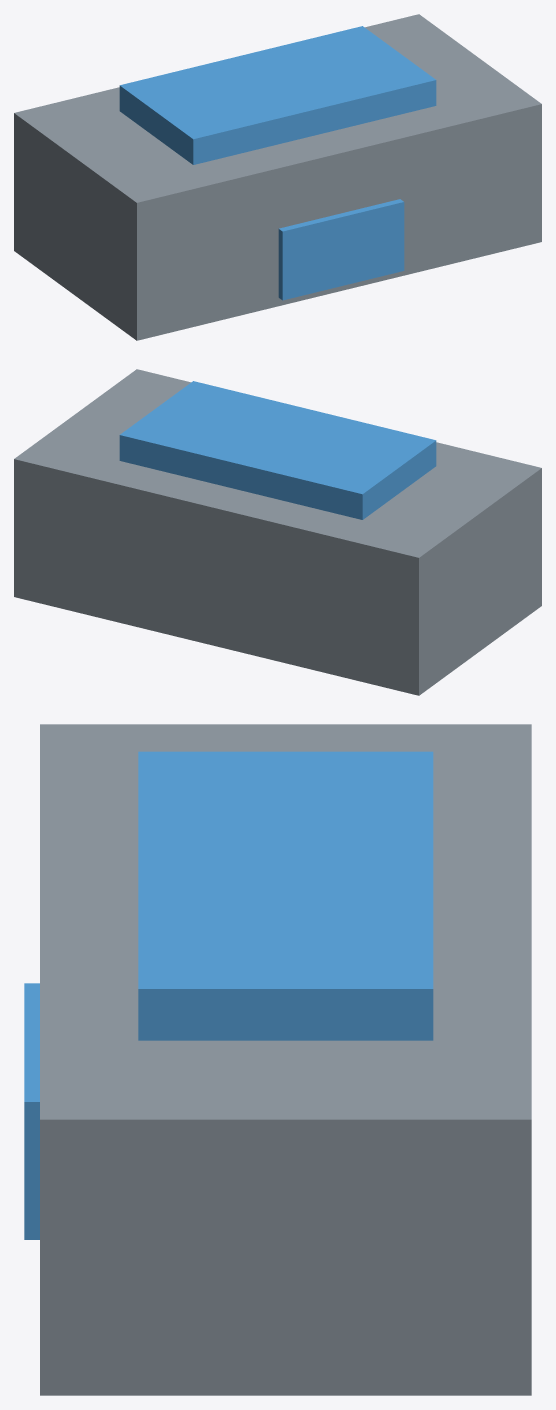
Rendered from SM_Alliance_AL_OracleArtillery_Blockout.fbx.
The picture shows the model from 3 angles, top to bottom: view 1: azimuth 30°, elevation 25°; view 2: azimuth 150°, elevation 25°; view 3: azimuth 270°, elevation 25°; orthographic projection. The views are drawn at different scales.
Parts seen in each view (by area): view 1: MainBuilding, RoofStructure, EntranceGate; view 2: MainBuilding, RoofStructure; view 3: MainBuilding, RoofStructure, EntranceGate.
Boxes of the visible parts, <box> form: MainBuilding: <box>14,14,541,340</box>; RoofStructure: <box>119,26,436,164</box>; EntranceGate: <box>278,199,404,300</box>; MainBuilding: <box>14,369,541,695</box>; RoofStructure: <box>119,381,436,519</box>; MainBuilding: <box>40,724,531,1395</box>; RoofStructure: <box>138,751,433,1040</box>; EntranceGate: <box>24,983,39,1239</box>.
Bounding box in the file's own units: 590 × 228 × 320.
